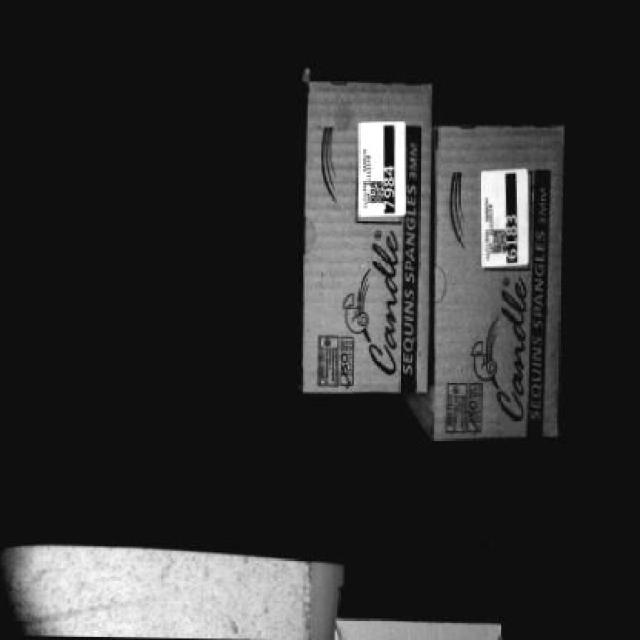cardboxes: (434, 123, 566, 434), (304, 85, 430, 389)
